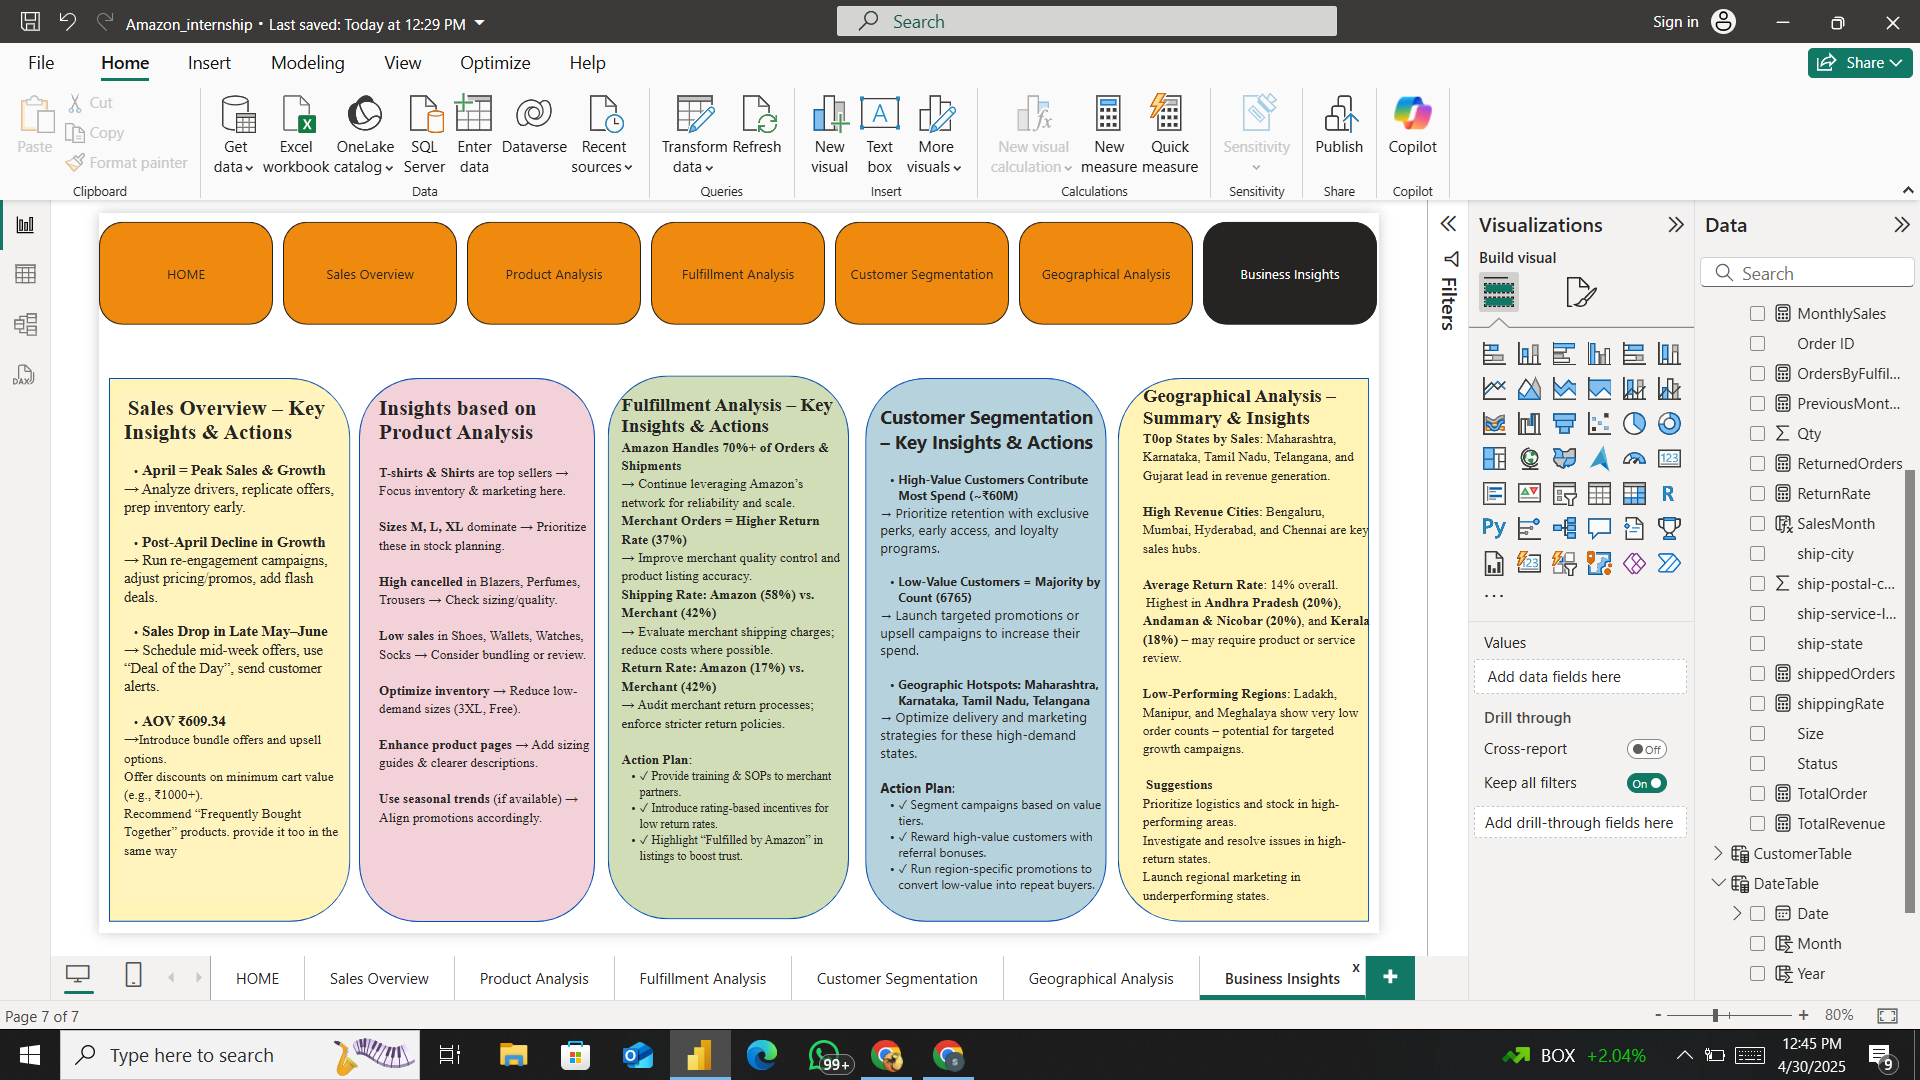

The page's visual inventory and layout, read from the dashboard file:
{"tool":"powerbi","page":{"name":"Business Insights","canvas":[1280,720],"ordinal":6},"visuals":[{"type":"shape","box":[766.2,165,241.2,543.8],"z":0},{"type":"shape","box":[508.8,162.5,241.2,543.8],"z":1000},{"type":"shape","box":[260,165,236.2,543.8],"z":2000},{"type":"shape","box":[10,165,241.2,543.8],"z":3000},{"type":"textbox","box":[20,177.5,231.2,511.2],"z":4000},{"type":"textbox","box":[275,177.5,221.2,511.2],"z":5000},{"type":"shape","box":[1018.8,165,251.2,543.8],"z":6000},{"type":"textbox","box":[517.5,176.2,232.5,512.5],"z":7000},{"type":"textbox","box":[776.2,186.2,232.5,533.8],"z":8000},{"type":"textbox","box":[1038.8,167.5,241.2,552.5],"z":9000},{"type":"pageNavigator","box":[0,8.3,1279.8,103.6],"z":9001}]}

Visuals, with their boxes on the page's 1280x720 design canvas (x1, y1, x2, y2). These are canvas units, not pixel positions in the 1920x1080 screenshot, which may show the page scaled, cropped or inside an application window:
shape: [left=766, top=165, right=1007, bottom=709]
shape: [left=509, top=162, right=750, bottom=706]
shape: [left=260, top=165, right=496, bottom=709]
shape: [left=10, top=165, right=251, bottom=709]
textbox: [left=20, top=178, right=251, bottom=689]
textbox: [left=275, top=178, right=496, bottom=689]
shape: [left=1019, top=165, right=1270, bottom=709]
textbox: [left=518, top=176, right=750, bottom=689]
textbox: [left=776, top=186, right=1009, bottom=720]
textbox: [left=1039, top=168, right=1280, bottom=720]
pageNavigator: [left=0, top=8, right=1280, bottom=112]
